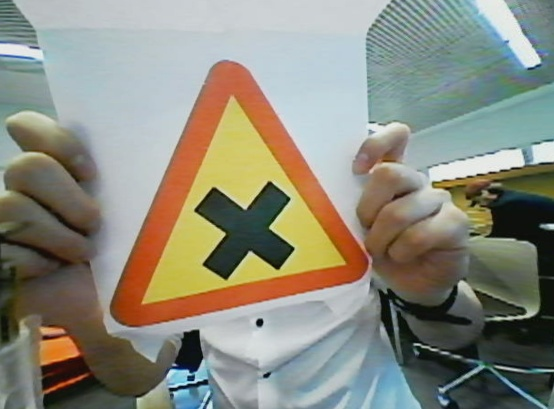junction: (109, 58, 377, 326)
